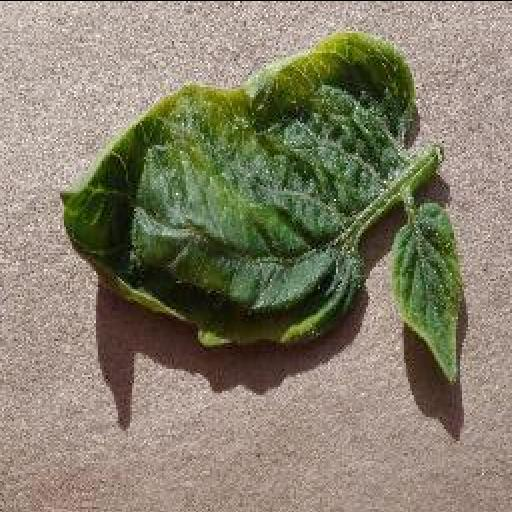disease_tomato: (56, 28, 422, 346), (394, 201, 468, 382)
